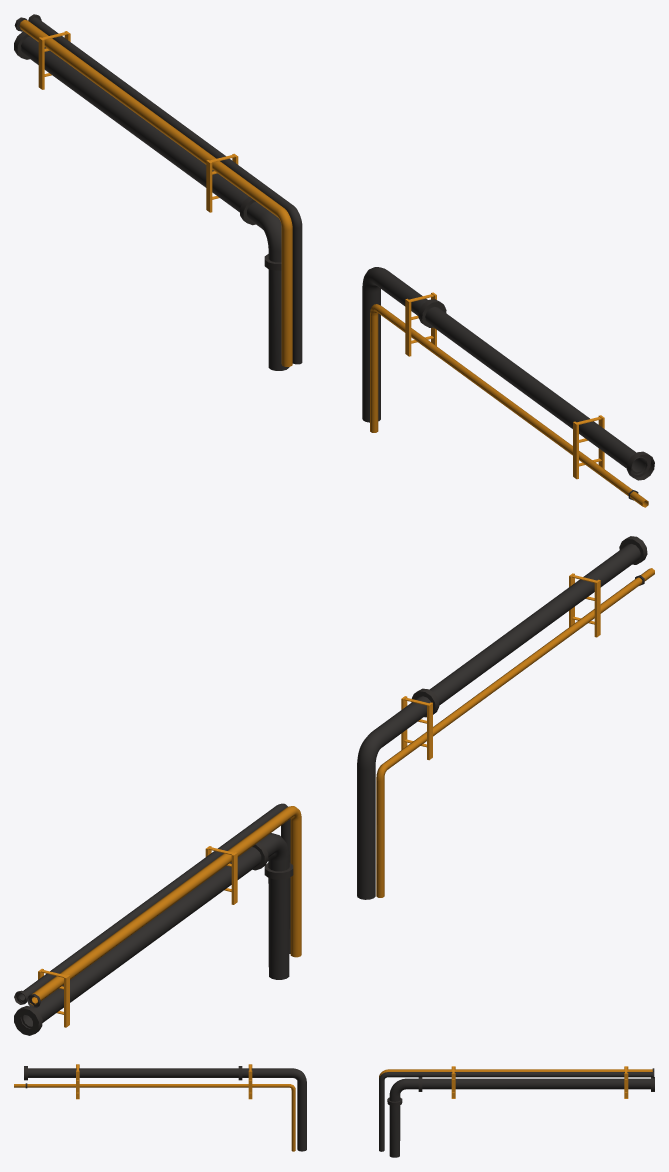
Rendered from SM_H_Building_Tide_WaterControl_02e_ATLAS.fbx.
The picture shows the model from 3 angles, top to bottom: view 1: azimuth 30°, elevation 25°; view 2: azimuth 150°, elevation 25°; view 3: azimuth 270°, elevation 25°; orthographic projection. The views are drawn at different scales.
Parts seen in each view (by area): view 1: SM_H_Building_Tide_WaterControl_02e_ATLAS; view 2: SM_H_Building_Tide_WaterControl_02e_ATLAS; view 3: SM_H_Building_Tide_WaterControl_02e_ATLAS.
Part boxes in pixels (x1,y1,x2,y2): SM_H_Building_Tide_WaterControl_02e_ATLAS: (14,14,654,507); SM_H_Building_Tide_WaterControl_02e_ATLAS: (14,536,654,1035); SM_H_Building_Tide_WaterControl_02e_ATLAS: (14,1064,654,1157).
Size of the model in its own units: 77.82 by 2815 by 436.
